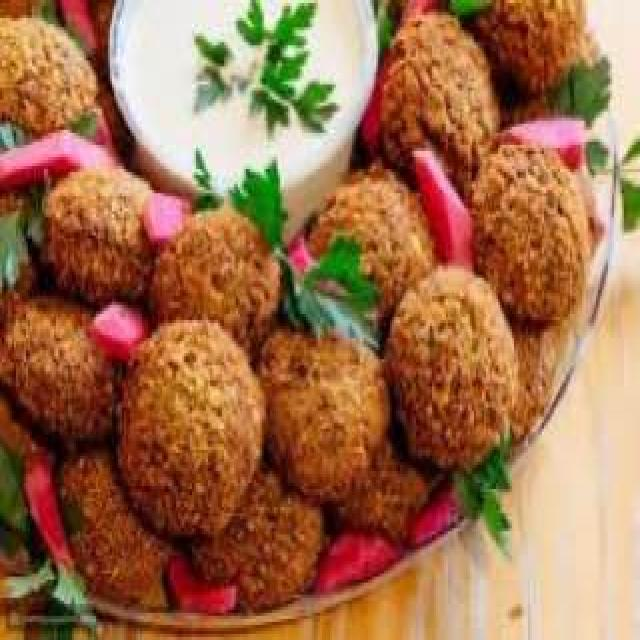taamia: (0, 0, 601, 615)
